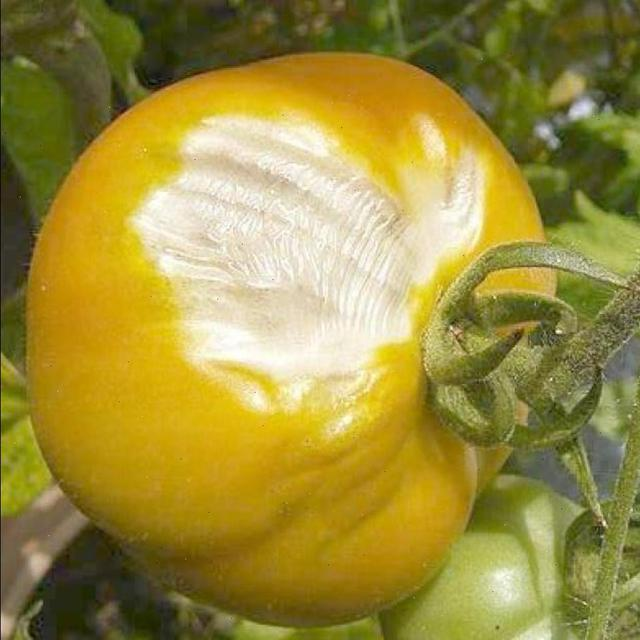Sunscald Fruit: (76, 65, 329, 286)
